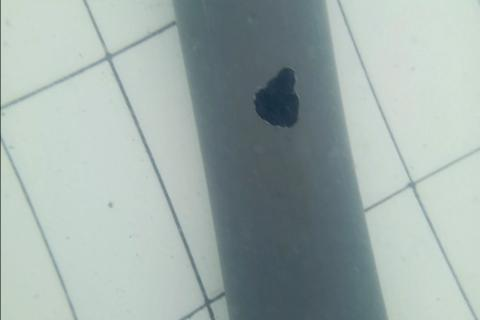kebocoran: (254, 63, 302, 131)
